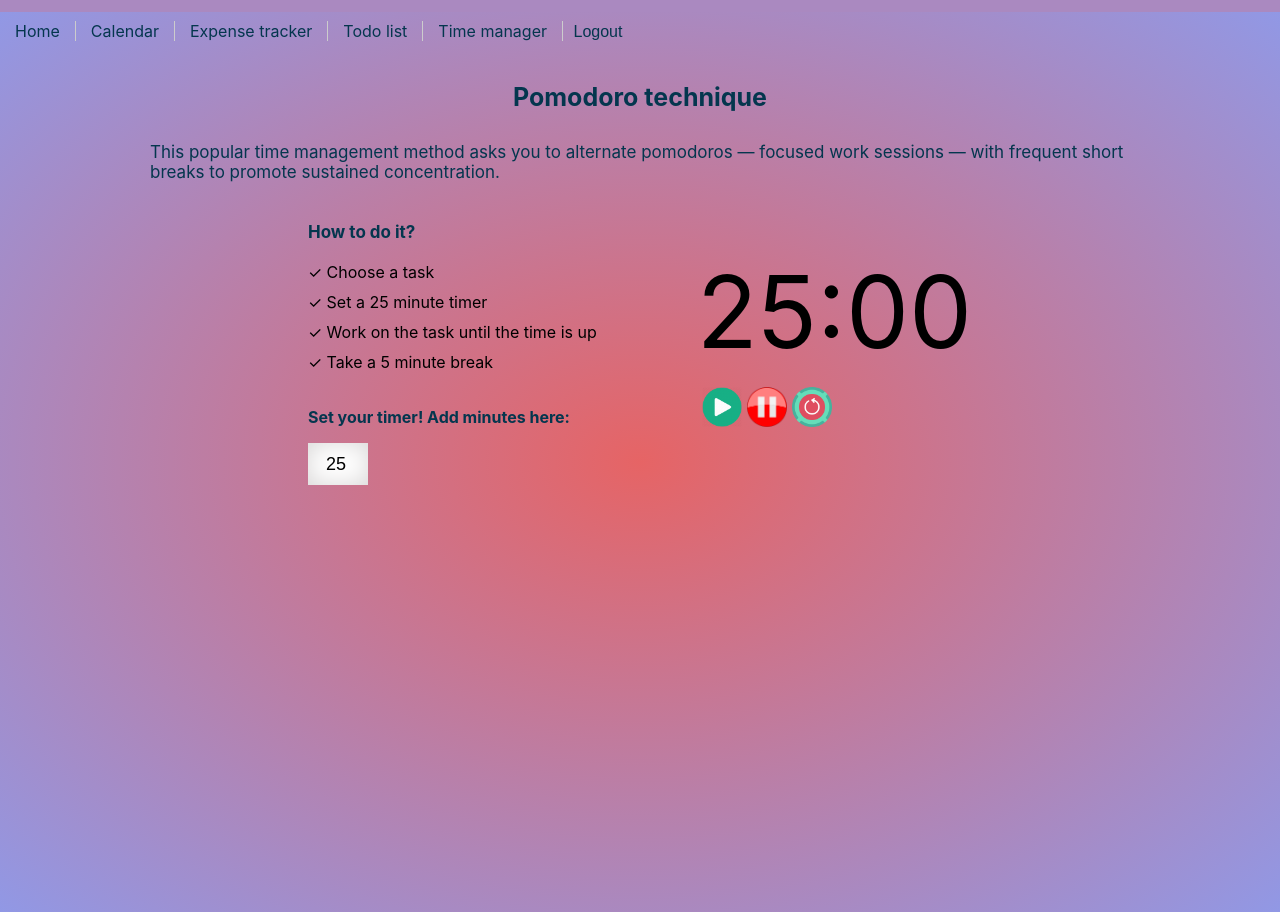
it: reset button sets timer to 00:00
Click the picture with alt text "reset": click(812, 407) [792,387,832,427]
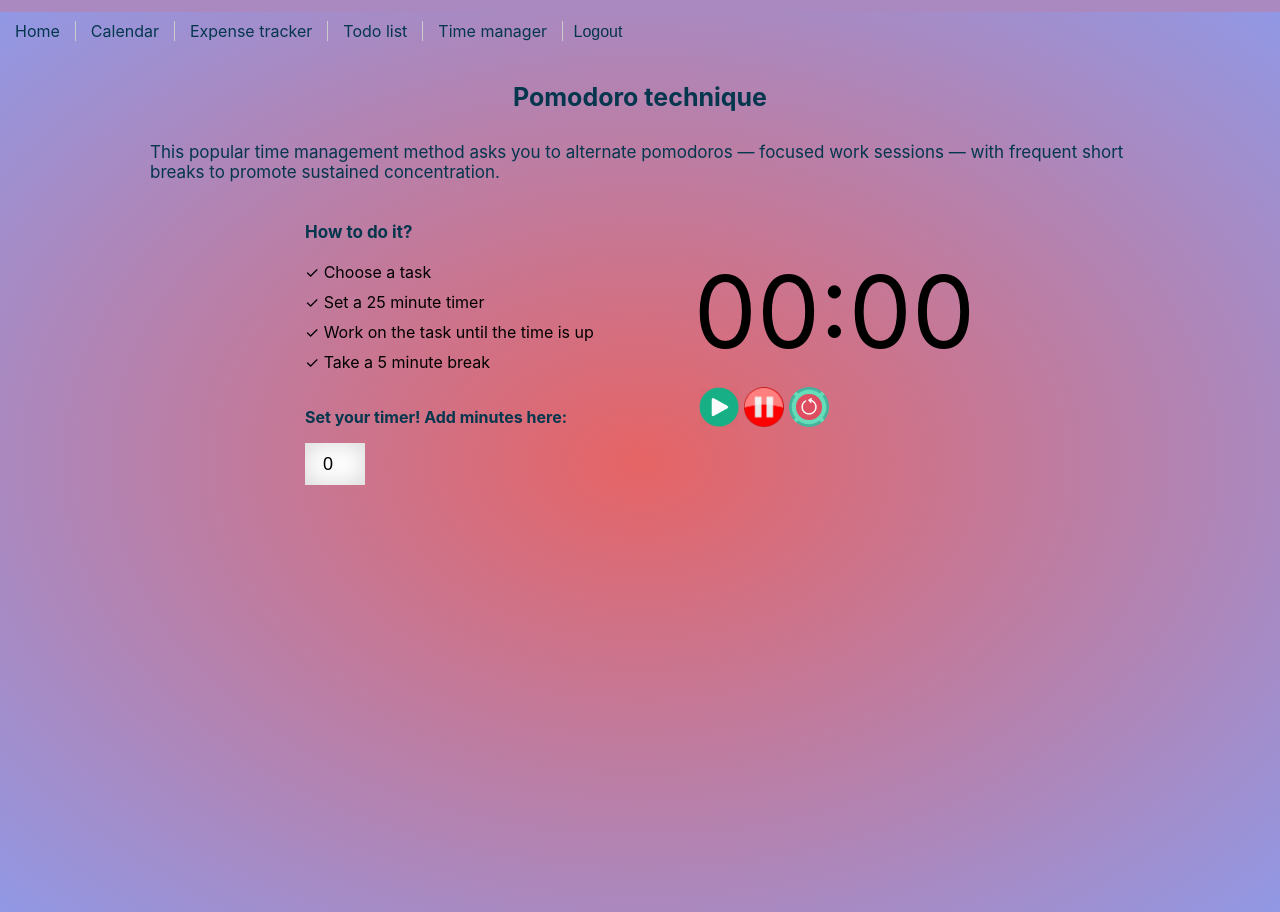
Expected: the text with test id "tid" reads "00:00", [694,251,975,372]
